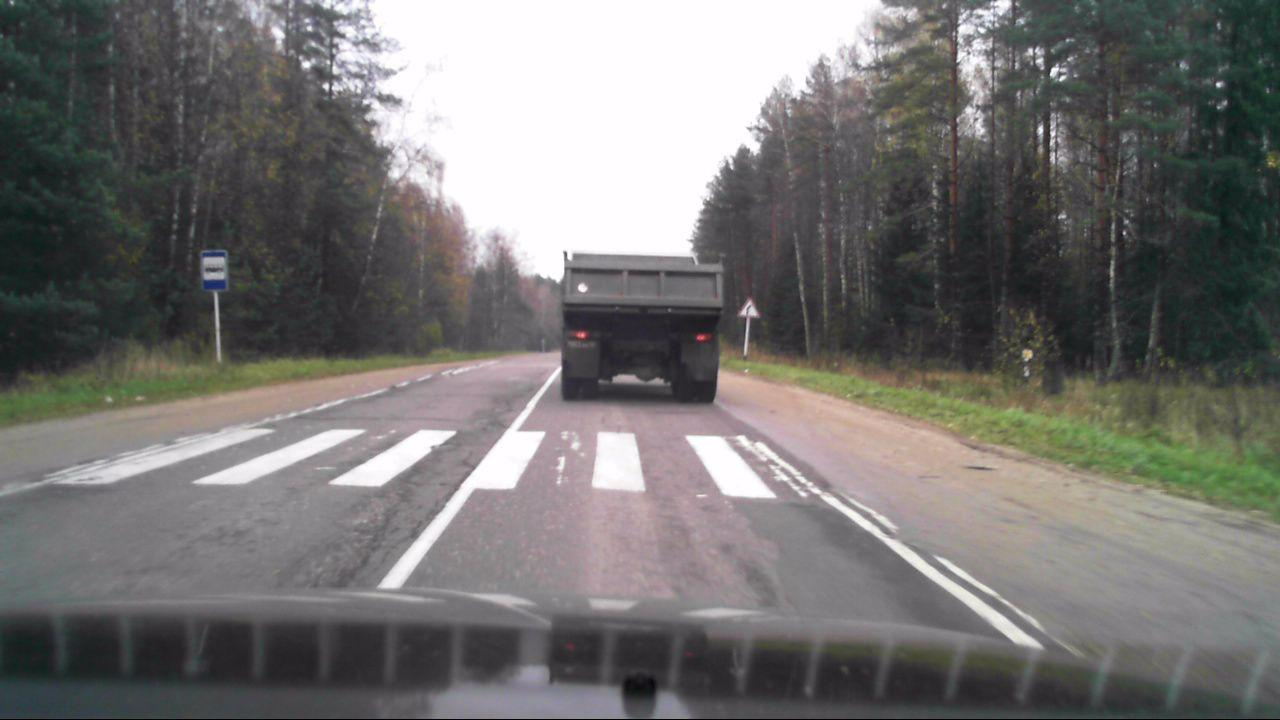road_sign: (200, 248, 231, 291), (736, 293, 763, 318)
